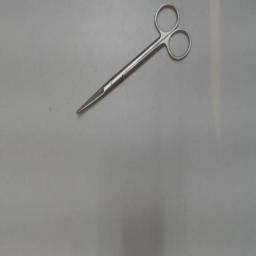Curved Mayo Scissors: (72, 2, 194, 120)
